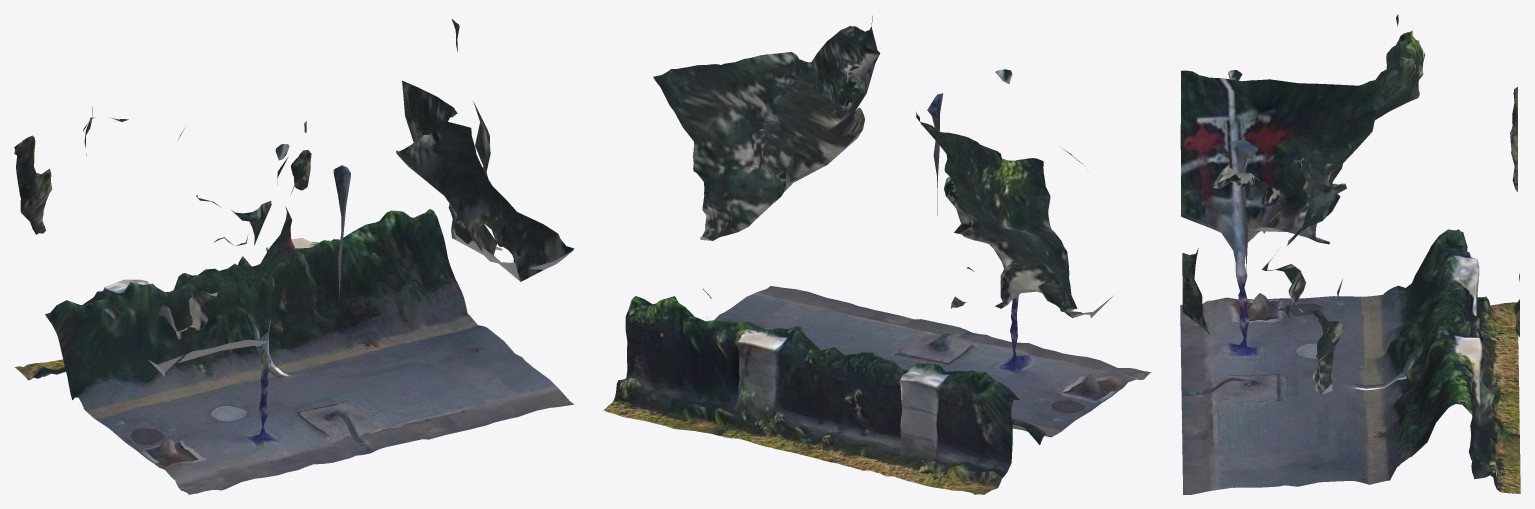
The model's file is Tile_+006_+007_L22_0002320.glb.
3 renders of one model, left to right at view 1: azimuth 30°, elevation 25°; view 2: azimuth 150°, elevation 25°; view 3: azimuth 270°, elevation 25°, orthographic. The views are drawn at different scales.
Visible parts, largest first — view 1: rtc; view 2: rtc; view 3: rtc.
Part boxes in pixels (x1=…): rtc: x1=14, y1=19, x2=574, y2=494; rtc: x1=603, y1=16, x2=1151, y2=494; rtc: x1=1180, y1=14, x2=1520, y2=494.
Size of the model in its own units: 8.86 by 6.62 by 6.87.
1 material, 1 textured.
